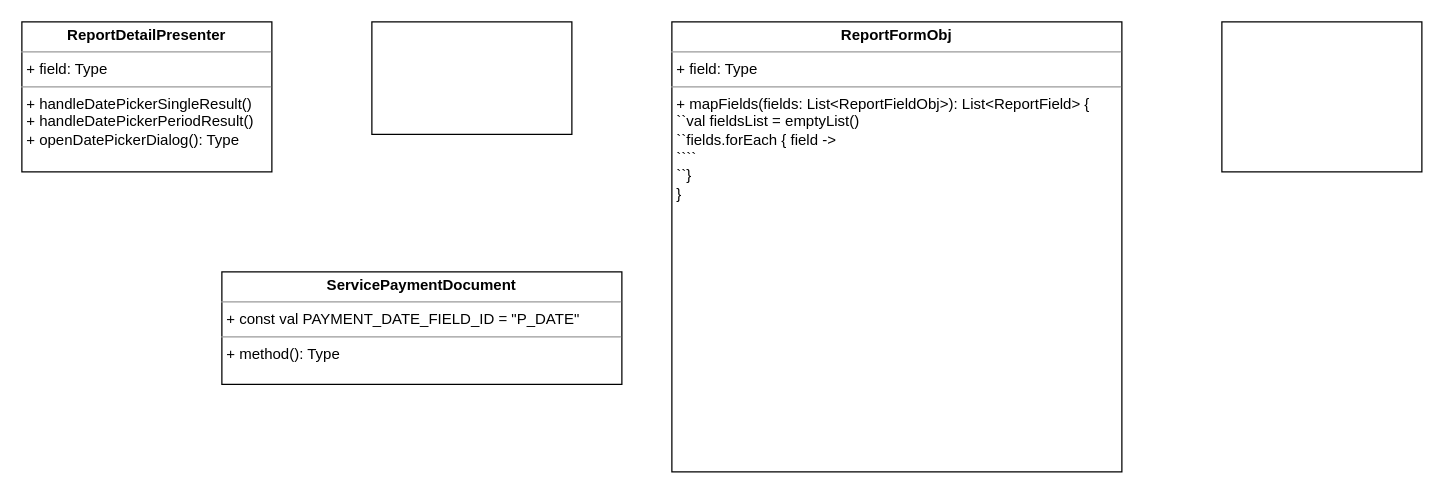
This 1444x494 diagram has some shape labels left out. The centre of each missing label's shape, as x and y in pixels:
"enum DatePickerType + field: Type + SINGLE() + MULTI()" goes at (x=1321, y=96).
"ReportField + inputType: Type + method(): Type" goes at (x=471, y=77).
